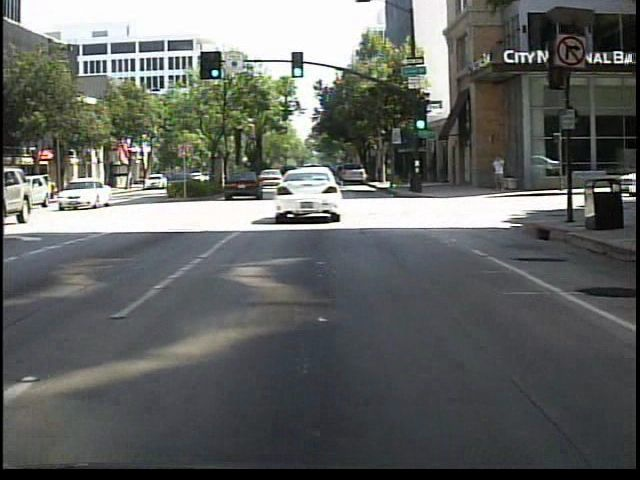person: (489, 153, 507, 195)
